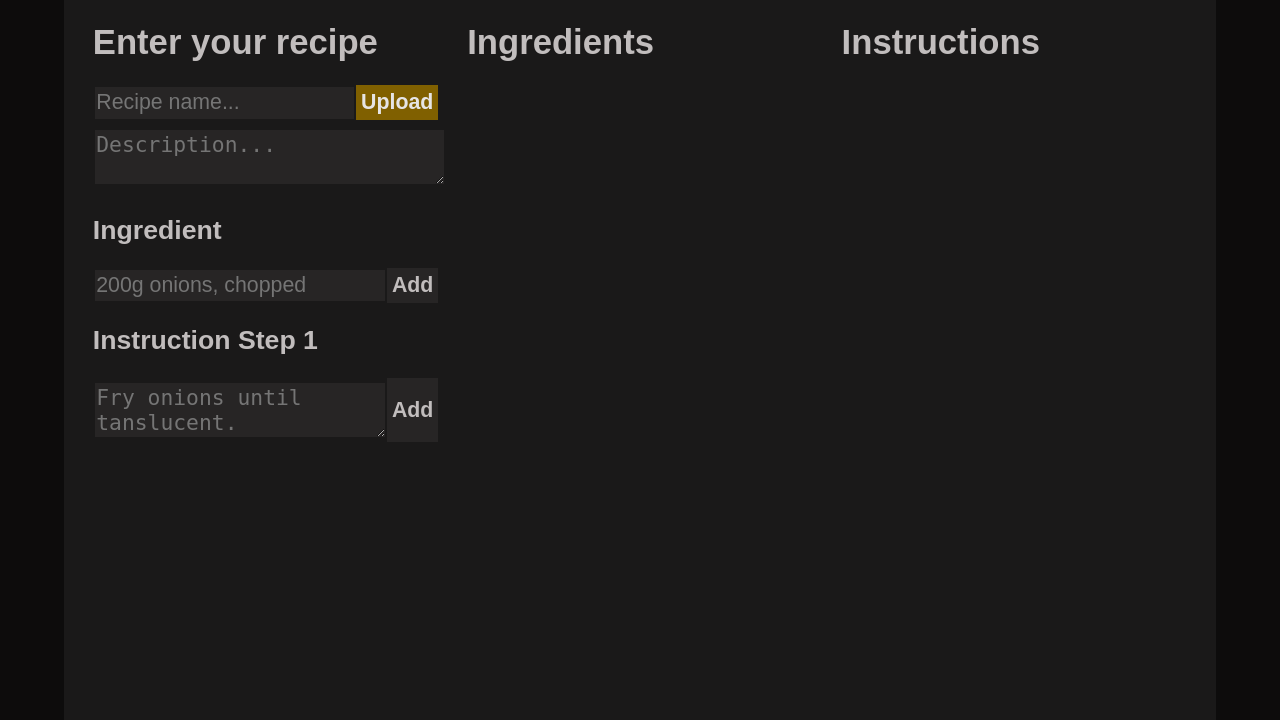
it: Upload › should add typed ingredient to the DynamicEditList
Expected: the text "edit" is not shown
Expected: the text "delete" is not shown
Type "1 large egg" into the field with test id "currIngredient" at [240, 286], box [94,270,385,301]
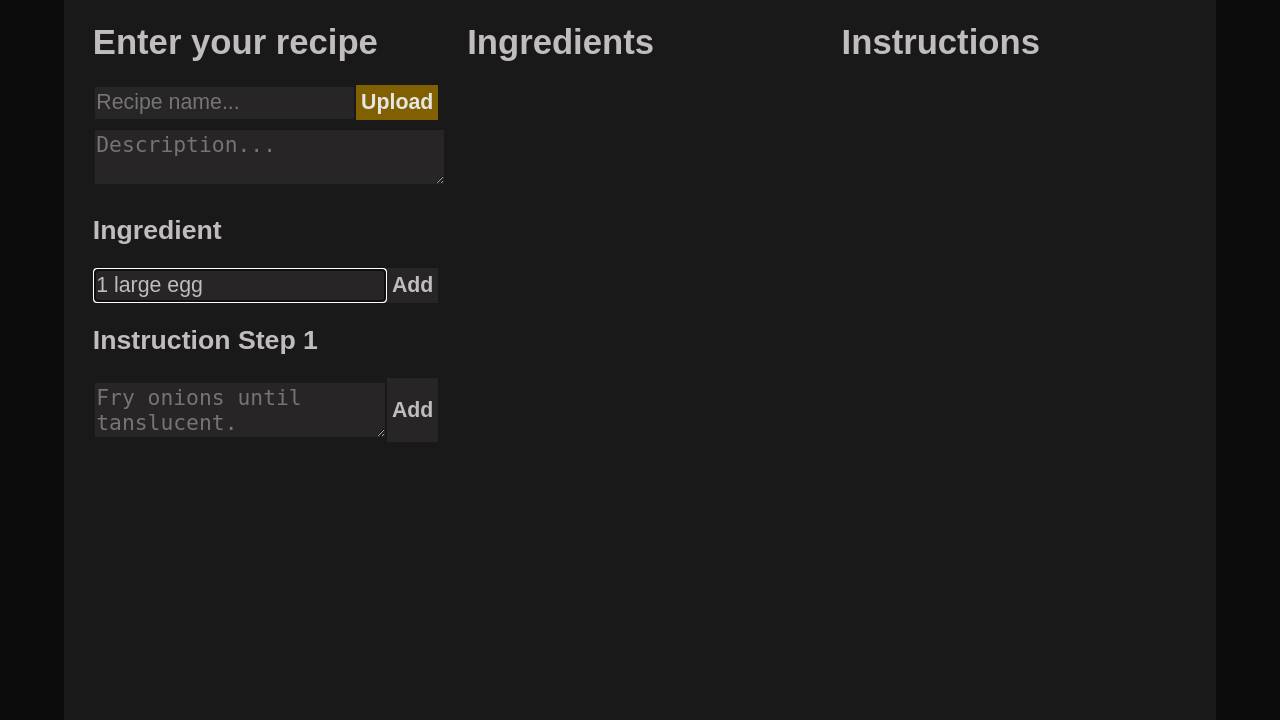
Click the button with test id "addIngredient-btn" at [413, 286], box [387,268,438,303]
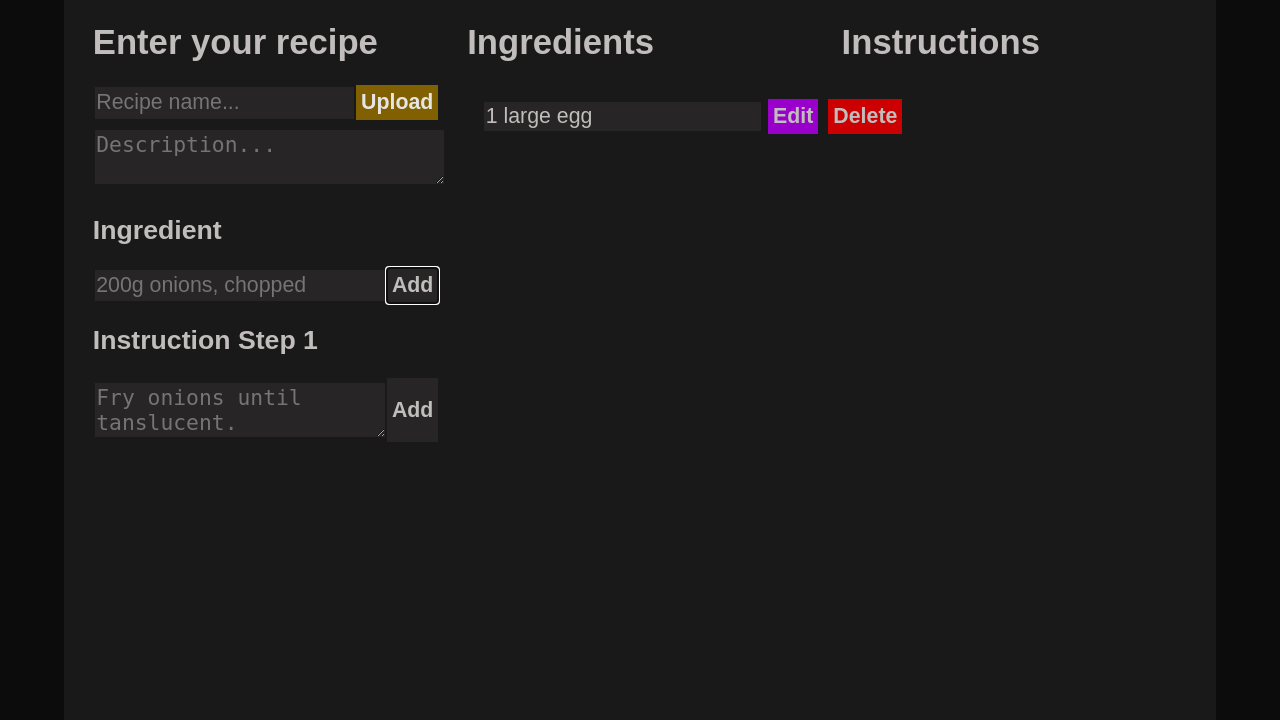
Result: the field with test id "currIngredient" is empty at [94,270,385,301]
Result: the field showing "1 large egg" is shown at [484,102,761,131]
Result: the button "Edit" is shown at [768,99,818,134]
